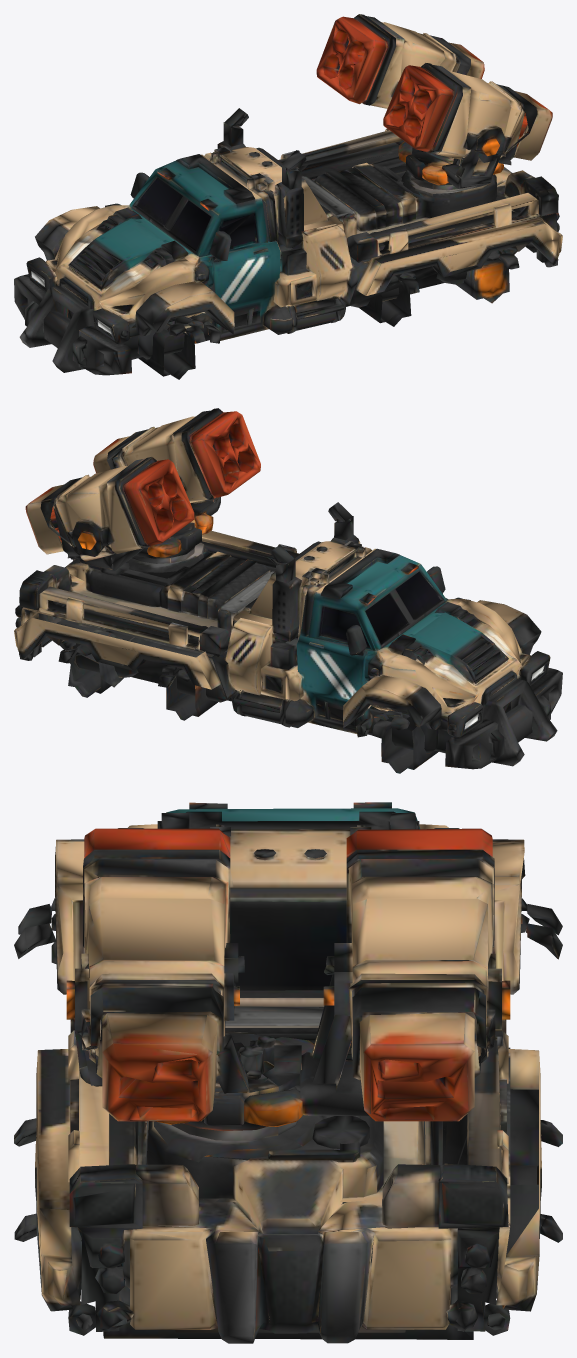
Rendered from Desert_Barrage_Rover_Complete.fbx.
The picture shows the model from 3 angles, top to bottom: view 1: azimuth 30°, elevation 25°; view 2: azimuth 150°, elevation 25°; view 3: azimuth 270°, elevation 25°; orthographic projection. The views are drawn at different scales.
Visible parts, largest first — view 1: Chassis, Missile_Barrage_Launcher; view 2: Chassis, Missile_Barrage_Launcher; view 3: Chassis, Missile_Barrage_Launcher.
Part boxes in pixels (x1=…): Chassis: x1=14, y1=108, x2=562, y2=379; Missile_Barrage_Launcher: x1=316, y1=14, x2=552, y2=188; Chassis: x1=14, y1=502, x2=562, y2=773; Missile_Barrage_Launcher: x1=25, y1=408, x2=260, y2=570; Chassis: x1=14, y1=802, x2=562, y2=1343; Missile_Barrage_Launcher: x1=66, y1=828, x2=510, y2=1126.
Size of the model in its own units: 95.46 by 44.04 by 48.29.
Materials: 1 (1 with a texture image).
